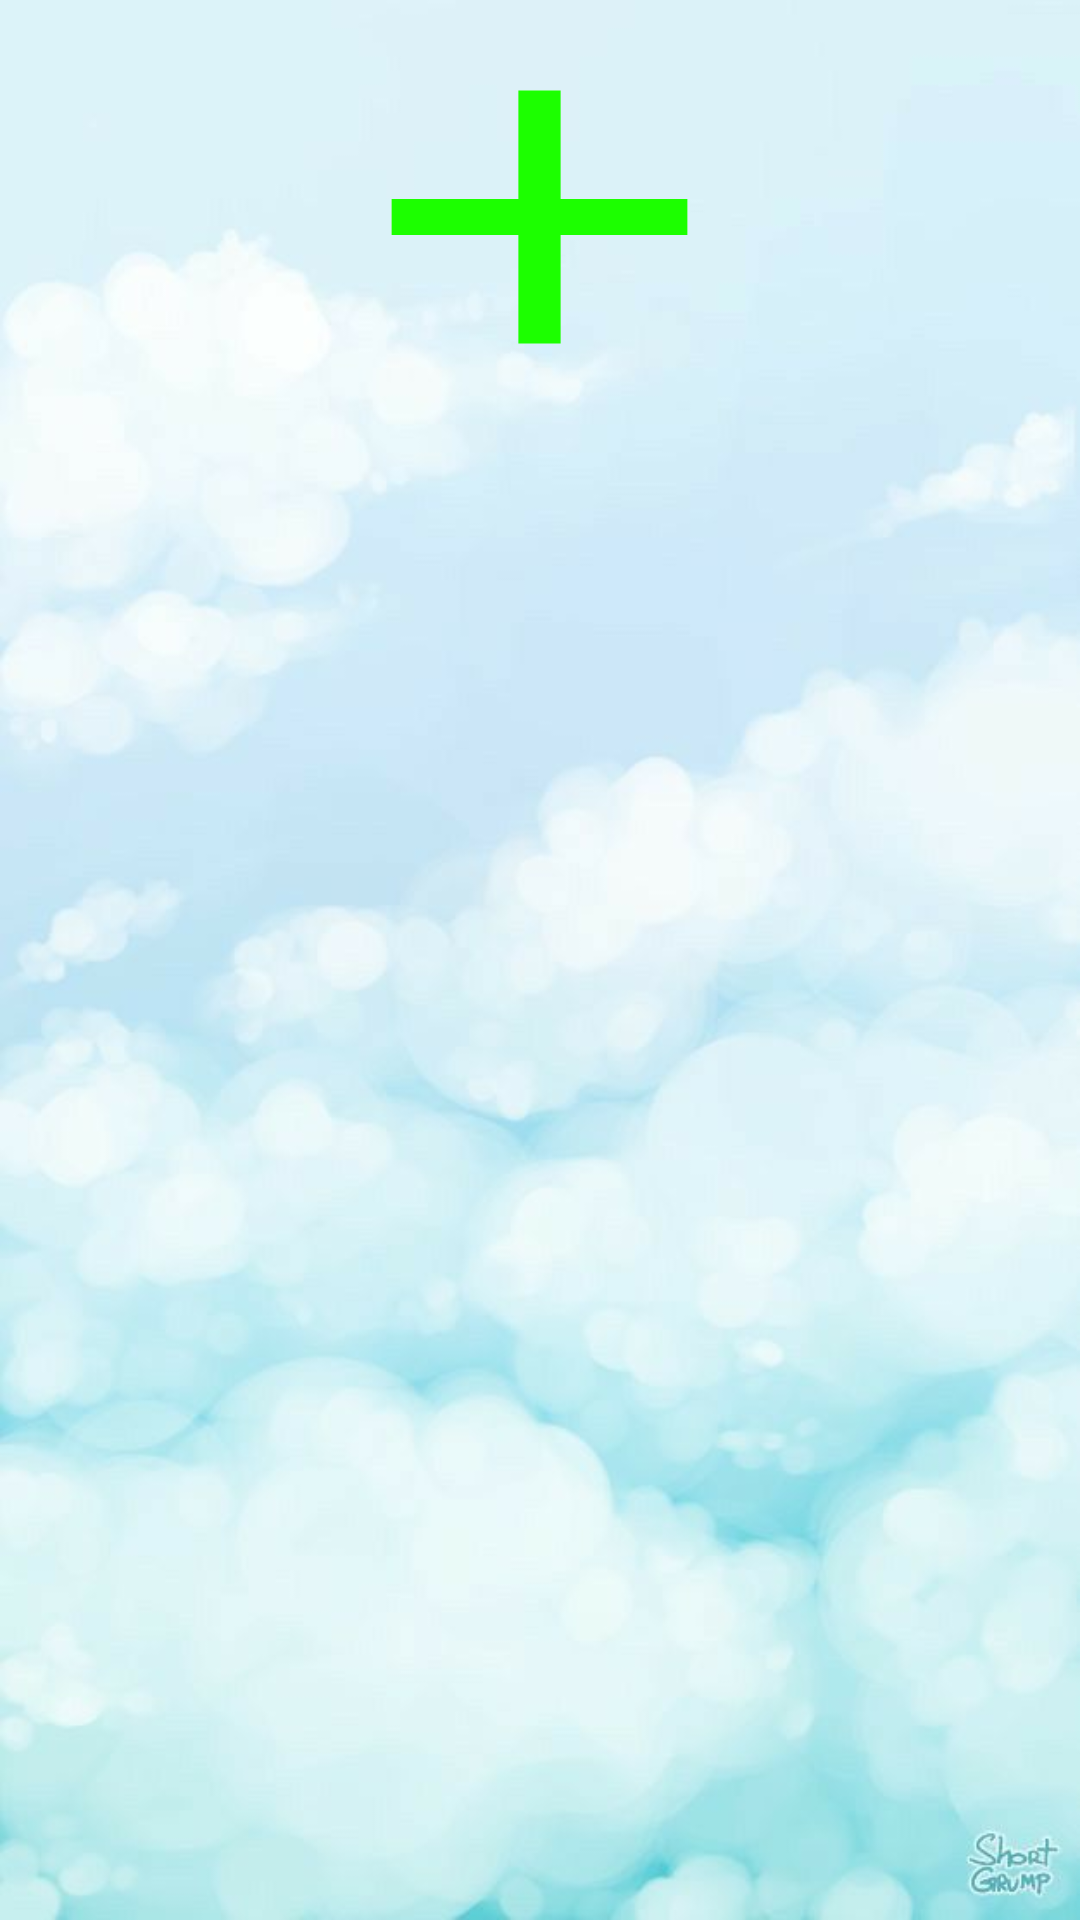

Icon click points for this 1080x1920 phone screenshot, format (x=x, y=y):
insertar: (x=532, y=248)
